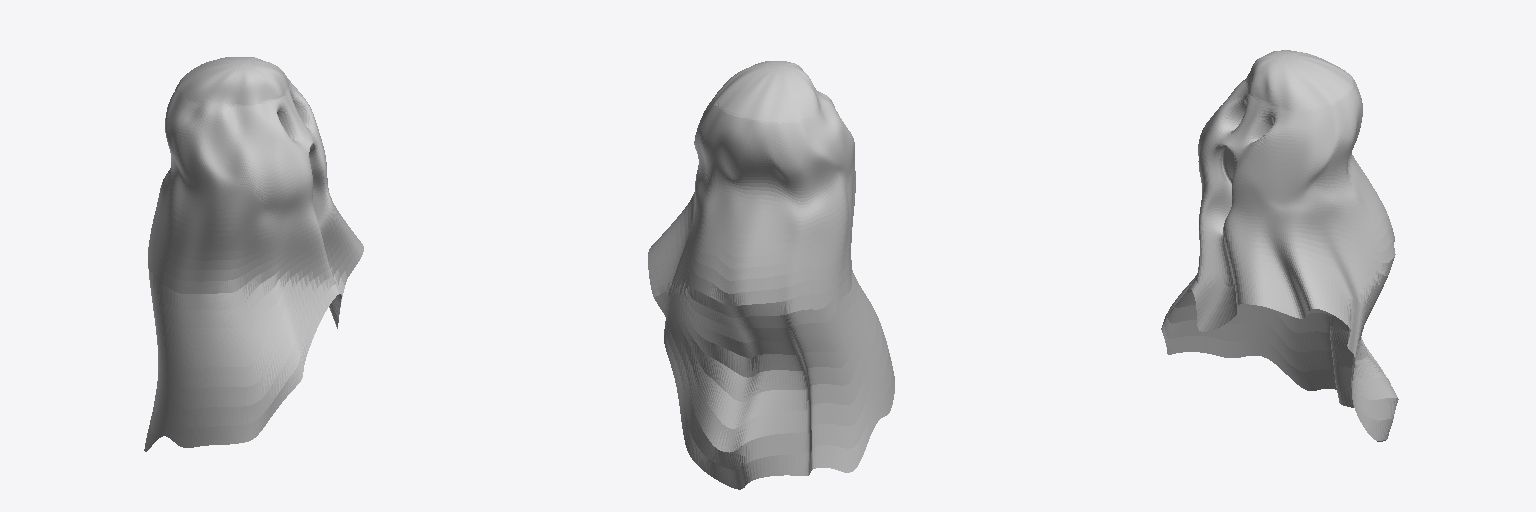
The model's file is ghost_000019.obj.
3 renders of one model, left to right at view 1: azimuth 30°, elevation 25°; view 2: azimuth 150°, elevation 25°; view 3: azimuth 270°, elevation 25°, orthographic.
Visible parts, largest first — view 1: 球体; view 2: 球体; view 3: 球体.
Part boxes in pixels (x1,y1,x2,y2): 球体: (144, 57, 363, 451); 球体: (648, 61, 894, 489); 球体: (1161, 50, 1398, 441).
Bounding box in the file's own units: 8.62 × 15.89 × 8.82.